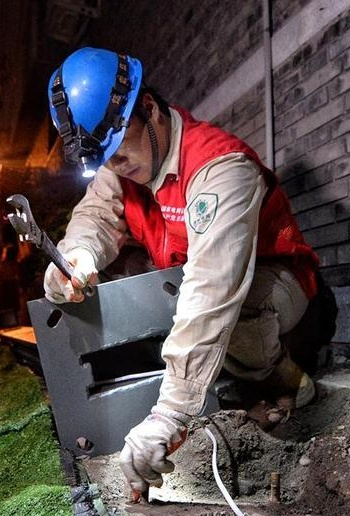gloves: (0, 405, 186, 516), (224, 359, 350, 516)
hard-hat: (0, 0, 350, 516)
ppe-suit: (175, 258, 350, 516)
